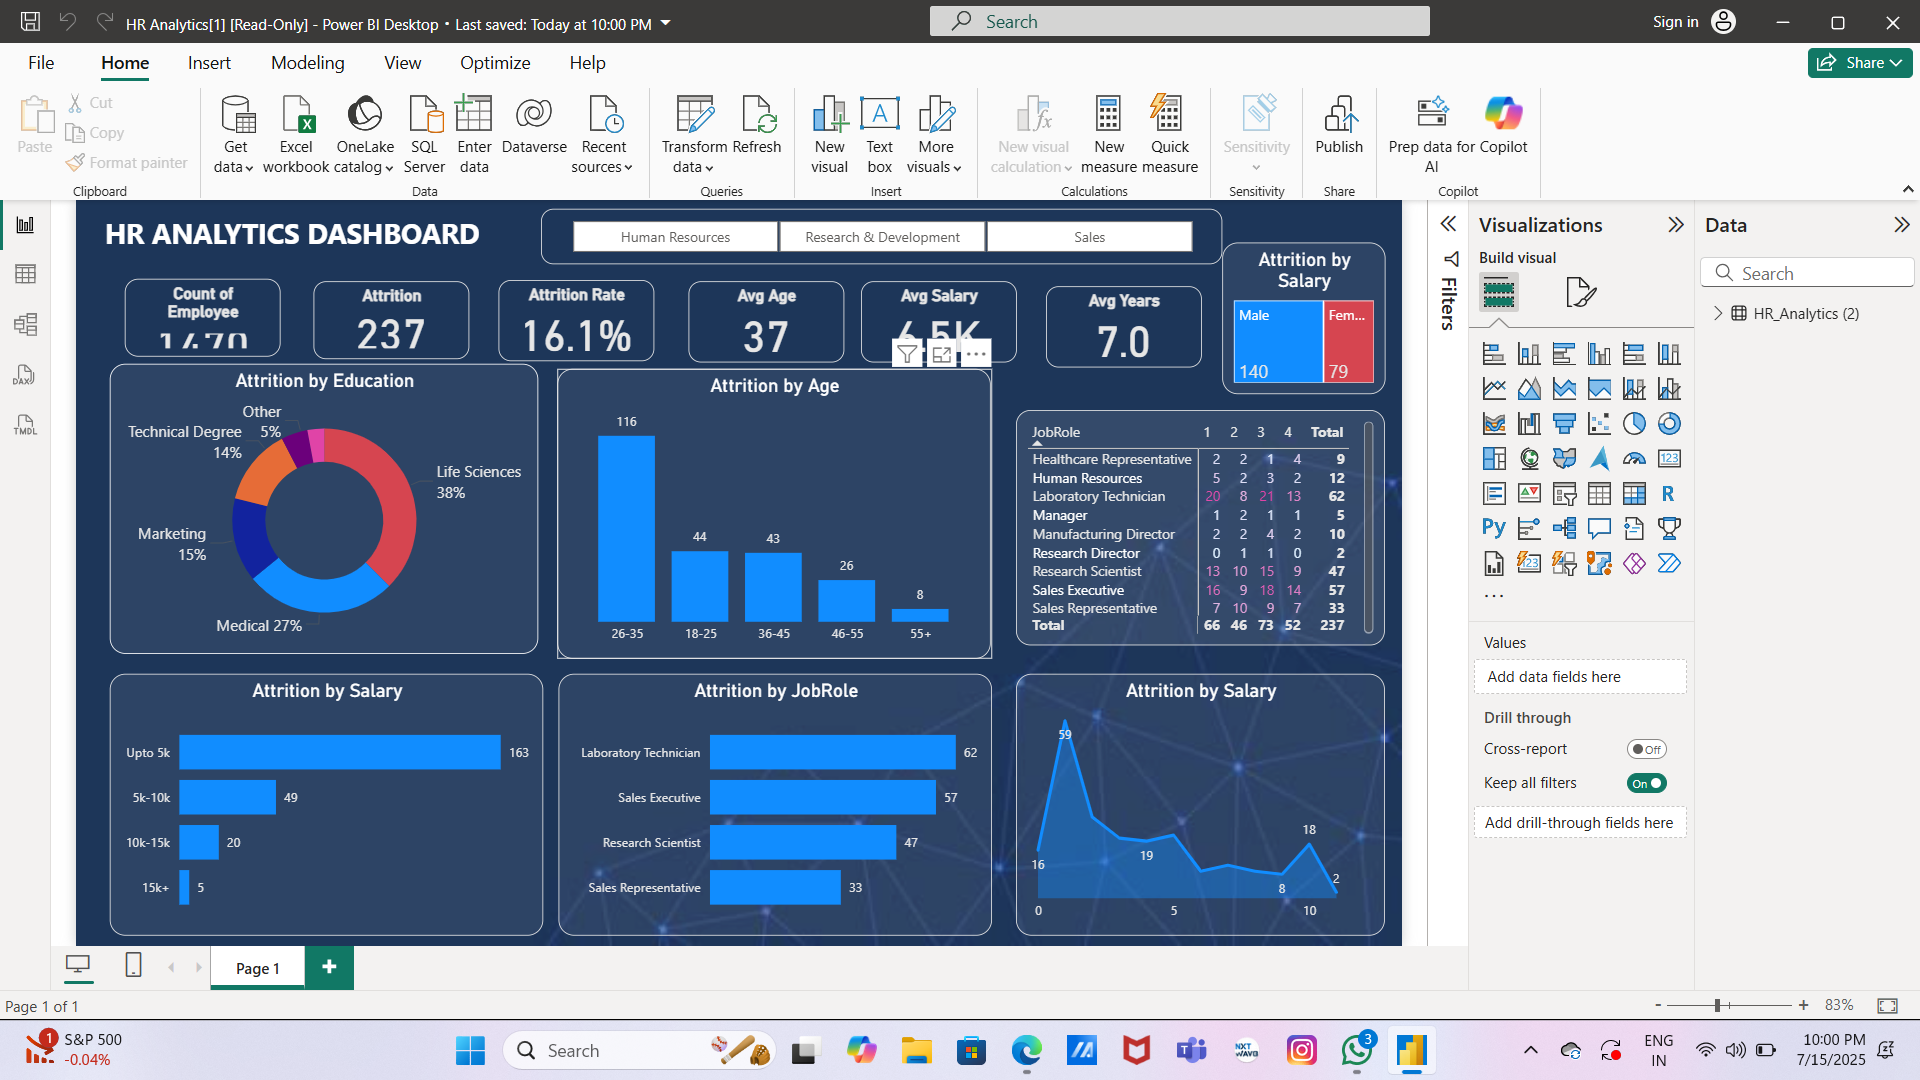

The page's visual inventory and layout, read from the dashboard file:
{"tool":"powerbi","page":{"name":"Page 1","canvas":[1280,720],"ordinal":0},"visuals":[{"type":"card","title":"Count of Employee","fields":{"Values":["CountNonNull(HR_Analytics (2).EmpID)"]},"box":[47.5,76.2,150,75],"z":0},{"type":"card","title":"Attrition","fields":{"Values":["Sum(HR_Analytics (2).AttritionCount)"]},"box":[228.8,78.8,150,75],"z":1000},{"type":"card","title":"Attrition Rate","fields":{"Values":["HR_Analytics (2).AttritionRate"]},"box":[407.5,77.5,150,78.8],"z":2000},{"type":"card","title":"Avg Age","fields":{"Values":["Avg(HR_Analytics (2).Age)"]},"box":[591.2,78.8,150,78.8],"z":3000},{"type":"card","title":"Avg Salary","fields":{"Values":["Avg(HR_Analytics (2).MonthlyIncome)"]},"box":[757.5,78.8,150,78.8],"z":4000},{"type":"card","title":"Avg Years","fields":{"Values":["Avg(HR_Analytics (2).YearsAtCompany)"]},"box":[936.2,83.8,150,78.8],"z":5000},{"type":"donutChart","title":"Attrition by Education","fields":{"Category":["HR_Analytics (2).EducationField"],"Y":["Sum(HR_Analytics (2).AttritionCount)"]},"box":[32.5,157.5,413.8,280],"z":6000},{"type":"columnChart","title":"Attrition by Age","fields":{"Category":["HR_Analytics (2).AgeGroup"],"Y":["Sum(HR_Analytics (2).AttritionCount)"]},"box":[465,162.5,418.8,280],"z":7000},{"type":"pivotTable","fields":{"Rows":["HR_Analytics (2).JobRole"],"Columns":["HR_Analytics (2).JobSatisfaction"],"Values":["Sum(HR_Analytics (2).AttritionCount)"]},"box":[907.5,202.5,356.2,227.5],"z":8000},{"type":"barChart","title":"Attrition by Salary","fields":{"Category":["HR_Analytics (2).SalarySlab"],"Y":["Sum(HR_Analytics (2).AttritionCount)"]},"box":[32.5,457.5,418.8,252.5],"z":9000},{"type":"barChart","title":"Attrition by JobRole","fields":{"Y":["Sum(HR_Analytics (2).AttritionCount)"],"Category":["HR_Analytics (2).JobRole"]},"box":[466.2,457.5,418.8,252.5],"z":10000},{"type":"areaChart","title":"Attrition by Salary","fields":{"Category":["HR_Analytics (2).YearsAtCompany"],"Y":["Sum(HR_Analytics (2).AttritionCount)"]},"box":[907.5,457.5,356.2,252.5],"z":11000},{"type":"treemap","title":"Attrition by Salary","fields":{"Group":["HR_Analytics (2).Gender"],"Values":["Sum(HR_Analytics (2).AttritionCount)"]},"box":[1106.2,41.2,157.5,146.2],"z":12000},{"type":"slicer","fields":{"Values":["HR_Analytics (2).Department"]},"box":[448.8,8.8,657.5,53.8],"z":13000},{"type":"textbox","box":[22.5,8.8,385,53.8],"z":14000}]}

Visuals, with their boxes on the page's 1280x720 design canvas (x1, y1, x2, y2). These are canvas units, not pixel positions in the 1920x1080 screenshot, which may show the page scaled, cropped or inside an application window:
"Count of Employee" card: select_region(48, 76, 198, 151)
"Attrition" card: select_region(229, 79, 379, 154)
"Attrition Rate" card: select_region(408, 78, 558, 156)
"Avg Age" card: select_region(591, 79, 741, 158)
"Avg Salary" card: select_region(758, 79, 908, 158)
"Avg Years" card: select_region(936, 84, 1086, 163)
"Attrition by Education" donutChart: select_region(32, 158, 446, 438)
"Attrition by Age" columnChart: select_region(465, 162, 884, 442)
pivotTable - HR_Analytics (2).JobRole x HR_Analytics (2).JobSatisfaction: select_region(908, 202, 1264, 430)
"Attrition by Salary" barChart: select_region(32, 458, 451, 710)
"Attrition by JobRole" barChart: select_region(466, 458, 885, 710)
"Attrition by Salary" areaChart: select_region(908, 458, 1264, 710)
"Attrition by Salary" treemap: select_region(1106, 41, 1264, 187)
slicer - HR_Analytics (2).Department: select_region(449, 9, 1106, 63)
textbox: select_region(22, 9, 408, 63)
